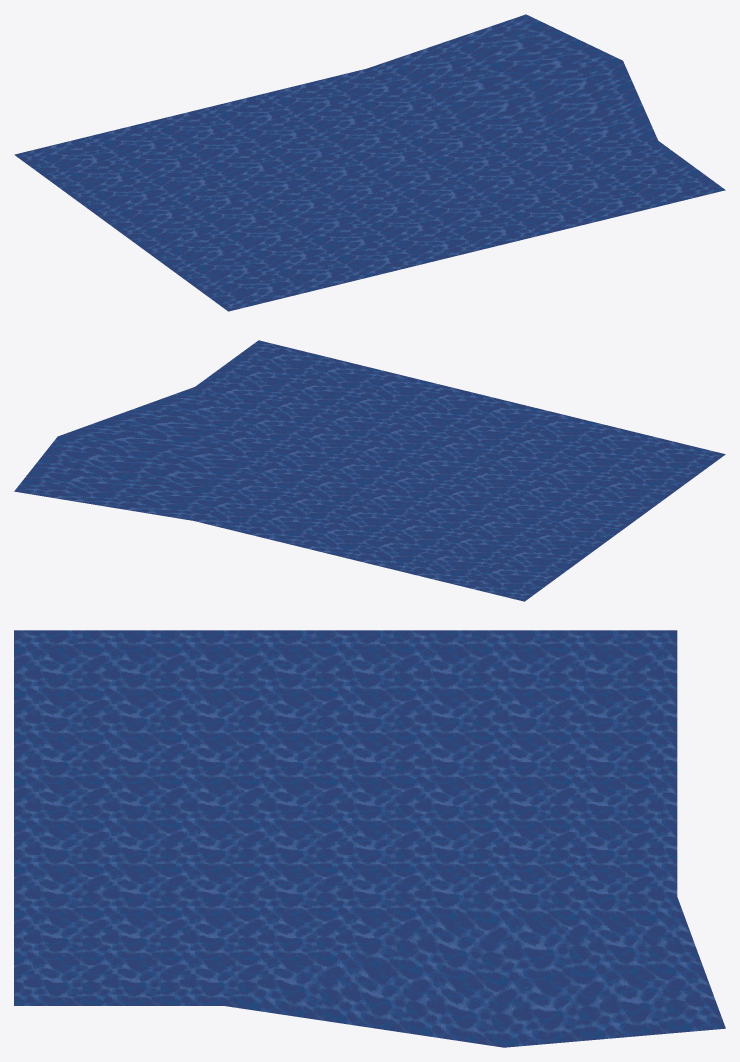
File: object_41_lev2.glb
3 renders of one model, top to bottom at view 1: azimuth 30°, elevation 25°; view 2: azimuth 150°, elevation 25°; view 3: azimuth 270°, elevation 25°, orthographic. The views are drawn at different scales.
Visible parts, largest first — view 1: object_41_lev2; view 2: object_41_lev2; view 3: object_41_lev2.
Boxes of the visible parts, x1=… form: object_41_lev2: x1=14, y1=14, x2=725, y2=311; object_41_lev2: x1=14, y1=340, x2=725, y2=601; object_41_lev2: x1=14, y1=630, x2=725, y2=1047.
Size of the model in its own units: 140 by 0 by 101.
Materials: 1 (1 with a texture image).
